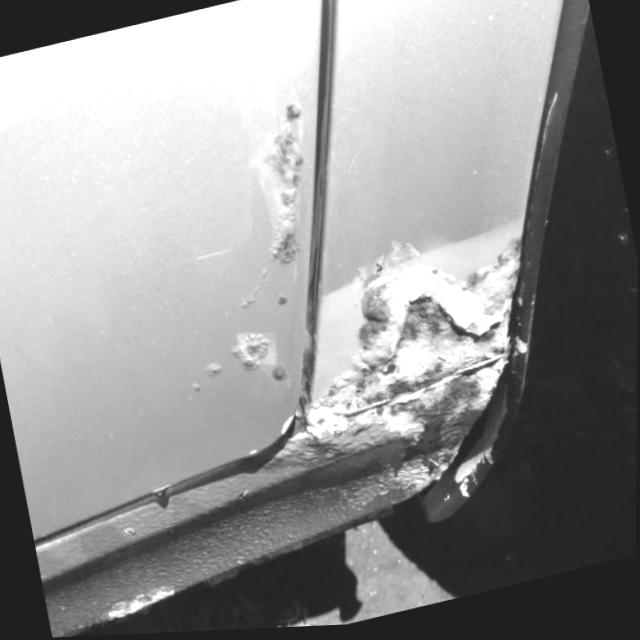Rust: (252, 229, 525, 480), (240, 93, 308, 270), (97, 578, 207, 627), (230, 328, 271, 372), (234, 486, 250, 506), (269, 363, 286, 380), (240, 293, 256, 308), (275, 293, 289, 307)
